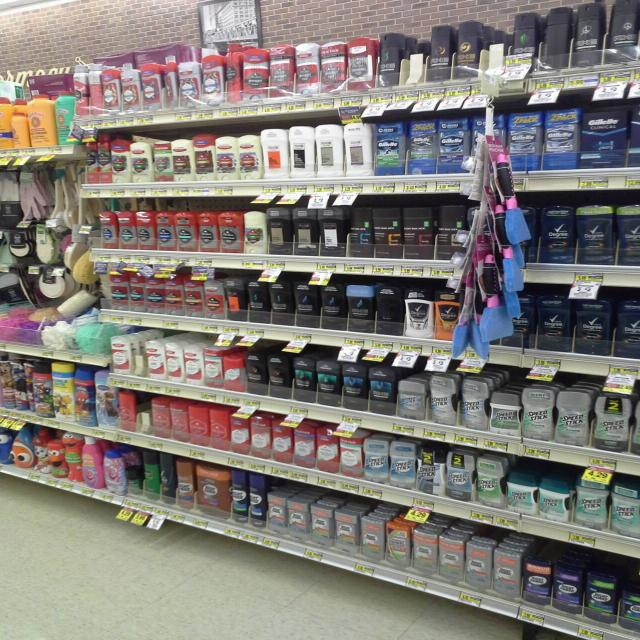empty: (473, 15, 519, 88), (395, 21, 431, 96)
